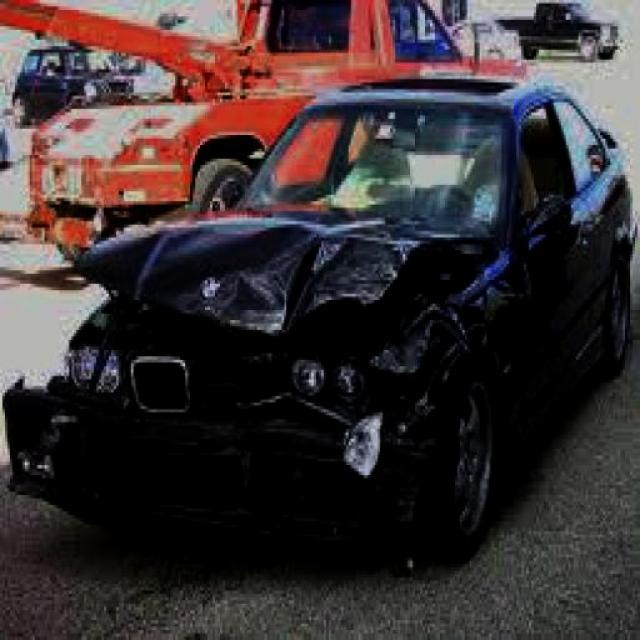car damage: (4, 214, 533, 544)
